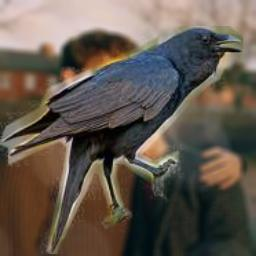Crow: (0, 26, 243, 254)
